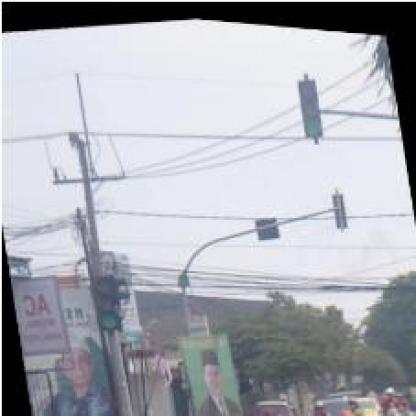green: (295, 70, 324, 132), (92, 275, 116, 330)
